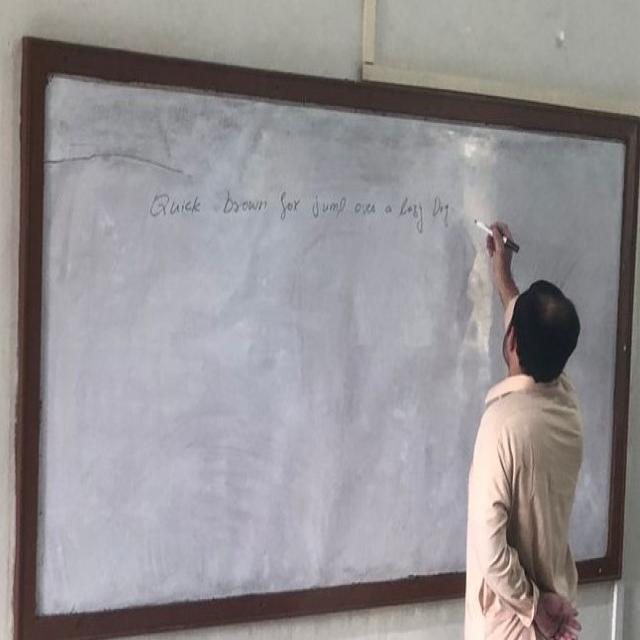Instructor: (471, 236, 587, 640)
White-board: (28, 49, 637, 632)
